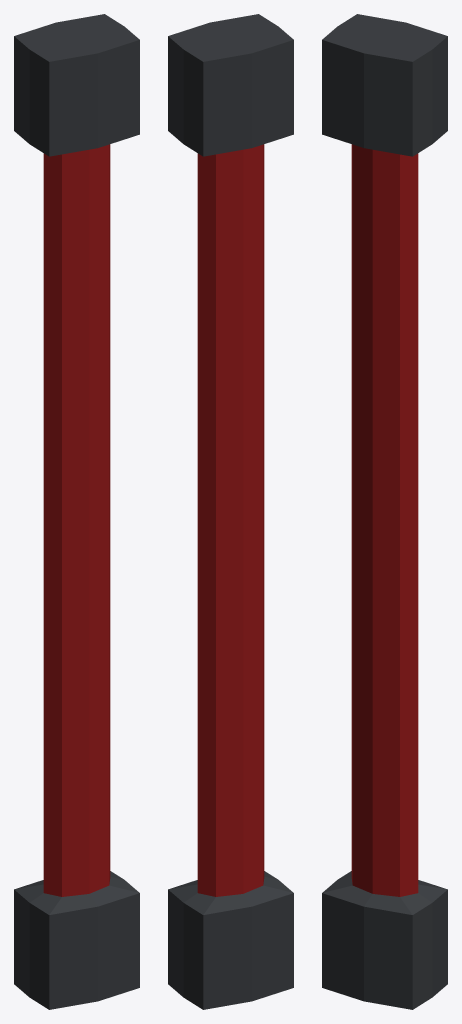
File: SM_Prop_NeonLight_02.fbx
3 renders of one model, left to right at view 1: azimuth 30°, elevation 25°; view 2: azimuth 210°, elevation 25°; view 3: azimuth 330°, elevation 25°, orthographic.
Visible parts, largest first — view 1: SM_Prop_NeonLight_02; view 2: SM_Prop_NeonLight_02; view 3: SM_Prop_NeonLight_02.
Part boxes in pixels (<box>): SM_Prop_NeonLight_02: <box>14,14,139,1009</box>; SM_Prop_NeonLight_02: <box>168,14,293,1009</box>; SM_Prop_NeonLight_02: <box>322,14,447,1009</box>.
Size of the model in its own units: 26.86 by 257 by 20.67.
